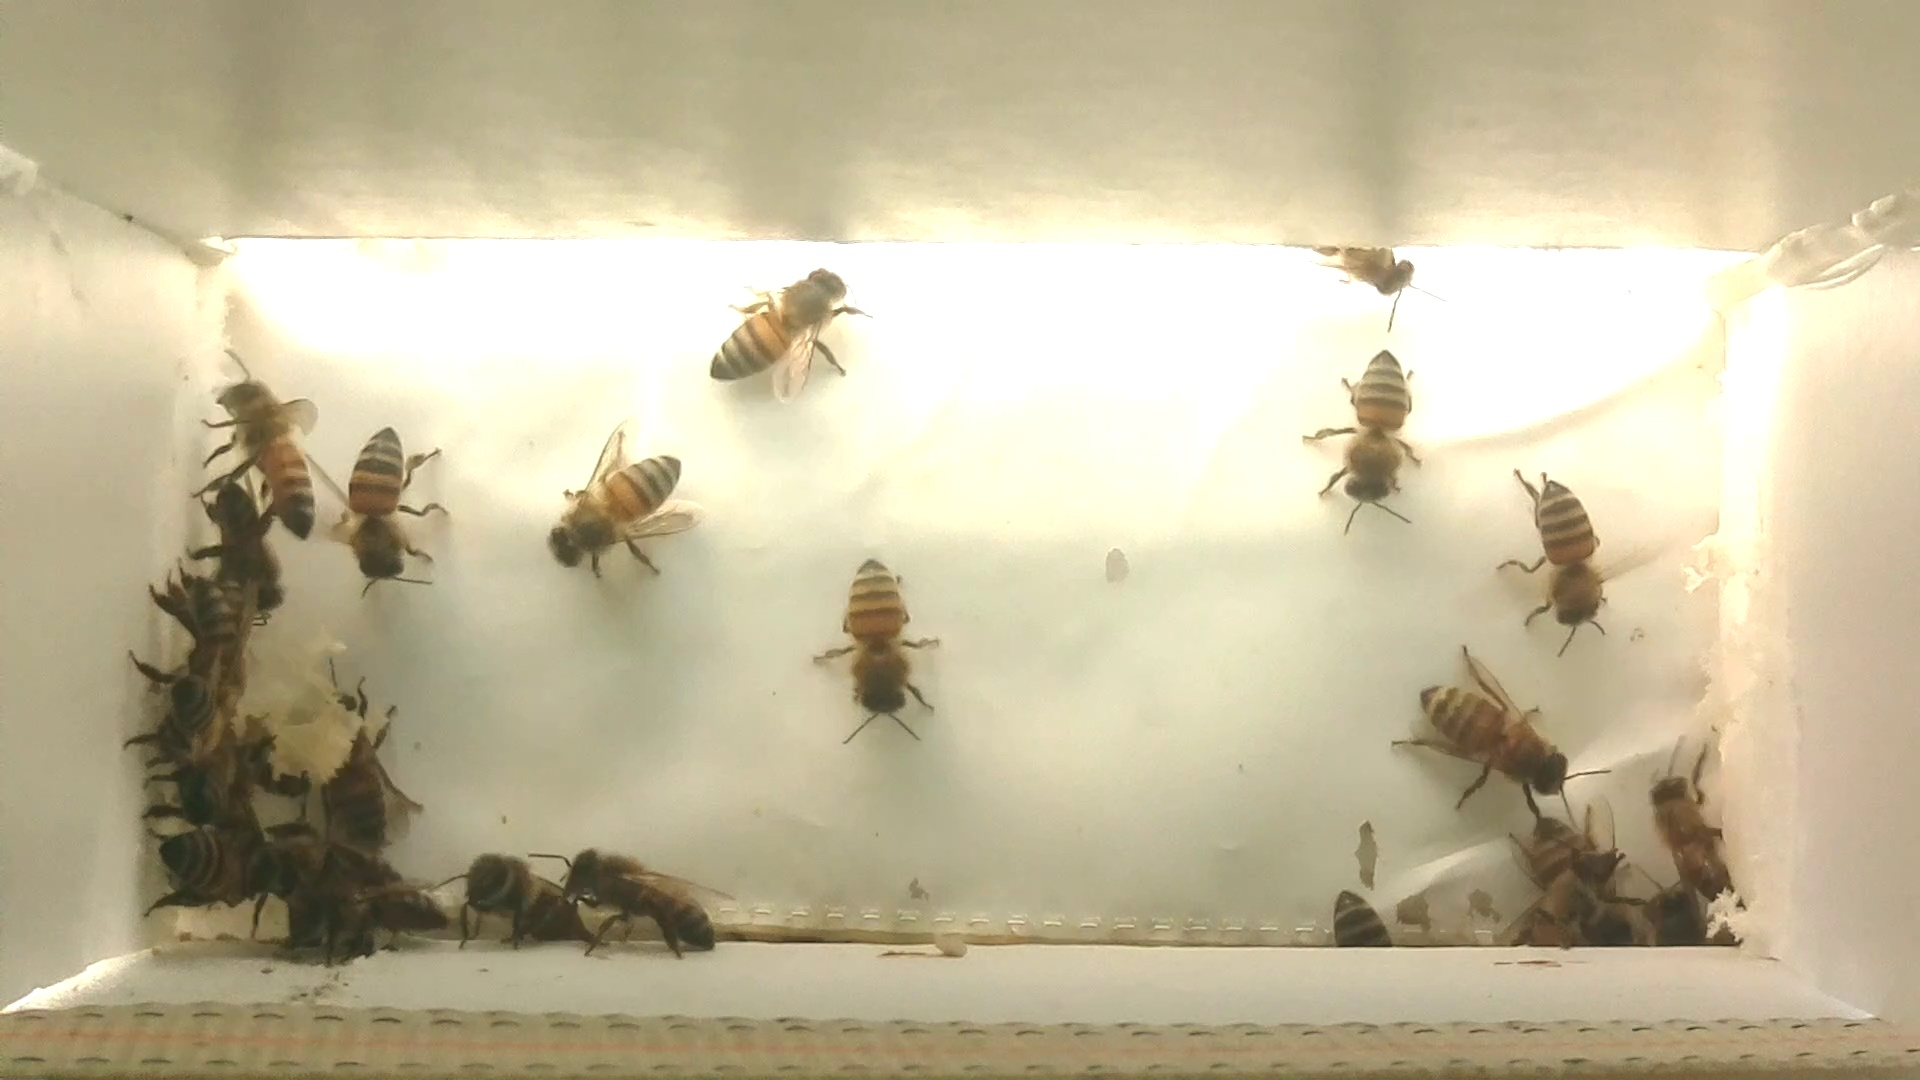bee: (1383, 633, 1606, 829), (796, 545, 976, 756), (1486, 455, 1668, 658), (518, 411, 713, 591), (301, 411, 477, 601), (694, 248, 891, 414), (1298, 345, 1444, 543), (181, 357, 334, 546), (527, 829, 735, 963), (287, 670, 429, 853), (1626, 736, 1753, 909), (1503, 796, 1633, 956), (423, 836, 587, 959), (133, 555, 266, 705), (278, 855, 451, 959), (1294, 225, 1449, 340), (185, 475, 302, 625), (128, 798, 262, 920), (129, 669, 243, 794), (1305, 876, 1414, 963)
